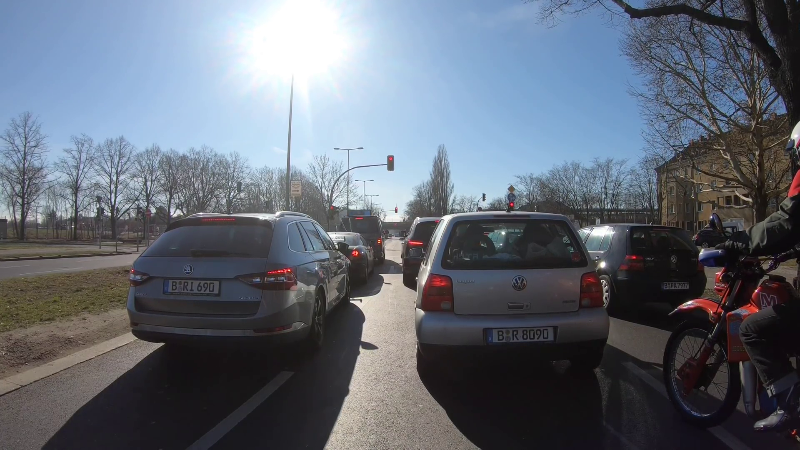Plate: (480, 324, 559, 345), (160, 277, 224, 297), (657, 279, 692, 292)
